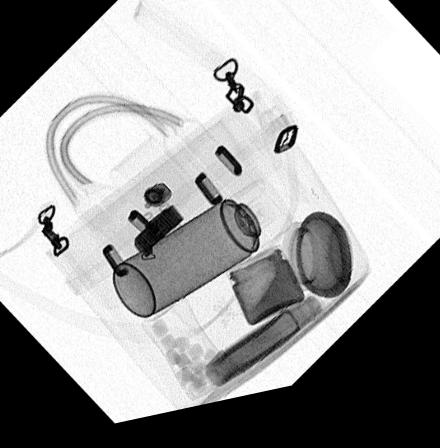Sprayer: (112, 191, 292, 323)
